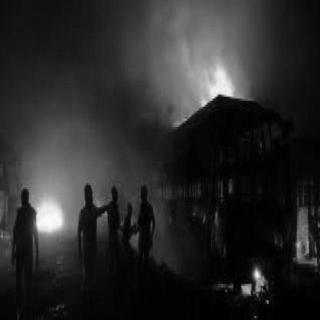Fire: (172, 20, 248, 107)
